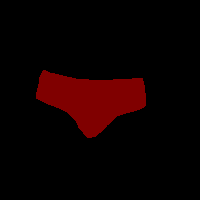mutande: (36, 69, 146, 138)
